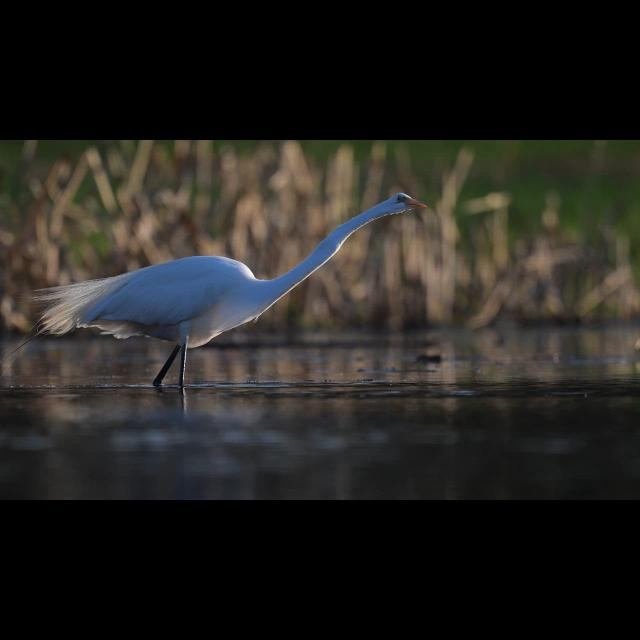egret: (30, 192, 422, 382)
